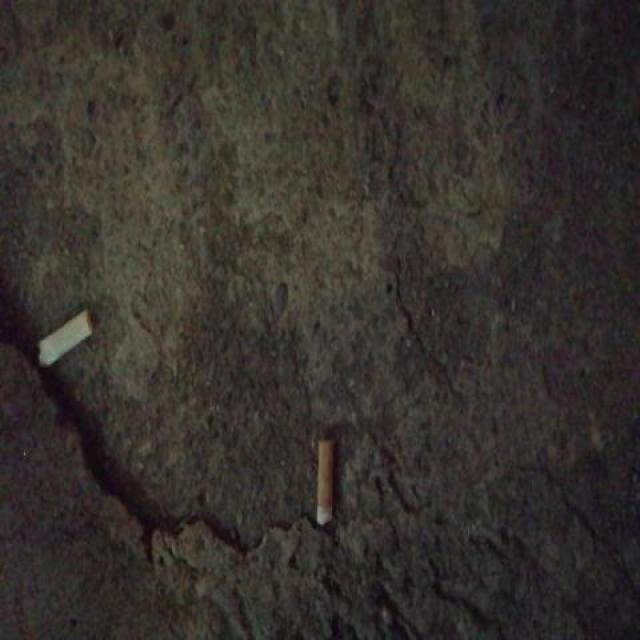non-organic waste: (31, 303, 97, 374), (313, 431, 339, 533)
